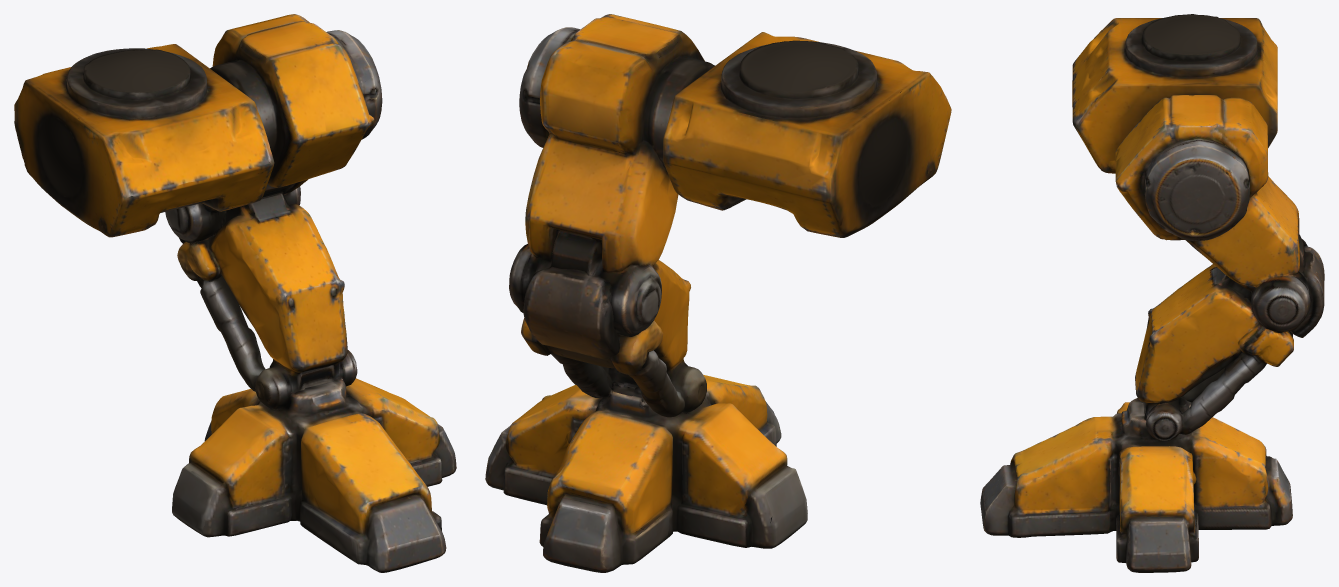
Rendered from NV_Shared_Chassis.fbx.
The picture shows the model from 3 angles, left to right: view 1: azimuth 30°, elevation 25°; view 2: azimuth 150°, elevation 25°; view 3: azimuth 270°, elevation 25°; orthographic projection. The views are drawn at different scales.
Visible parts, largest first — view 1: tripo_node_62e7c61d-4d4f-473e-a150-19af7134c986.005, tripo_node_62e7c61d-4d4f-473e-a150-19af7134c986.003, tripo_node_62e7c61d-4d4f-473e-a150-19af7134c986, tripo_node_62e7c61d-4d4f-473e-a150-19af7134c986.004; view 2: tripo_node_62e7c61d-4d4f-473e-a150-19af7134c986.005, tripo_node_62e7c61d-4d4f-473e-a150-19af7134c986.003, tripo_node_62e7c61d-4d4f-473e-a150-19af7134c986.004, tripo_node_62e7c61d-4d4f-473e-a150-19af7134c986; view 3: tripo_node_62e7c61d-4d4f-473e-a150-19af7134c986.005, tripo_node_62e7c61d-4d4f-473e-a150-19af7134c986.004, tripo_node_62e7c61d-4d4f-473e-a150-19af7134c986.003, tripo_node_62e7c61d-4d4f-473e-a150-19af7134c986.
Part boxes in pixels (x1,y1,x2,y2): tripo_node_62e7c61d-4d4f-473e-a150-19af7134c986.005: (172,378,456,572); tripo_node_62e7c61d-4d4f-473e-a150-19af7134c986.003: (14,44,274,237); tripo_node_62e7c61d-4d4f-473e-a150-19af7134c986: (177,192,357,410); tripo_node_62e7c61d-4d4f-473e-a150-19af7134c986.004: (165,14,382,244); tripo_node_62e7c61d-4d4f-473e-a150-19af7134c986.005: (485,374,807,572); tripo_node_62e7c61d-4d4f-473e-a150-19af7134c986.003: (663,32,951,237); tripo_node_62e7c61d-4d4f-473e-a150-19af7134c986.004: (509,14,714,336); tripo_node_62e7c61d-4d4f-473e-a150-19af7134c986: (521,259,706,417); tripo_node_62e7c61d-4d4f-473e-a150-19af7134c986.005: (980,397,1292,572); tripo_node_62e7c61d-4d4f-473e-a150-19af7134c986.004: (1115,95,1311,332); tripo_node_62e7c61d-4d4f-473e-a150-19af7134c986.003: (1072,14,1277,173); tripo_node_62e7c61d-4d4f-473e-a150-19af7134c986: (1135,245,1324,440).
Bounding box in the file's own units: 58.01 × 69.36 × 51.06.
Materials: 1 (1 with a texture image).
